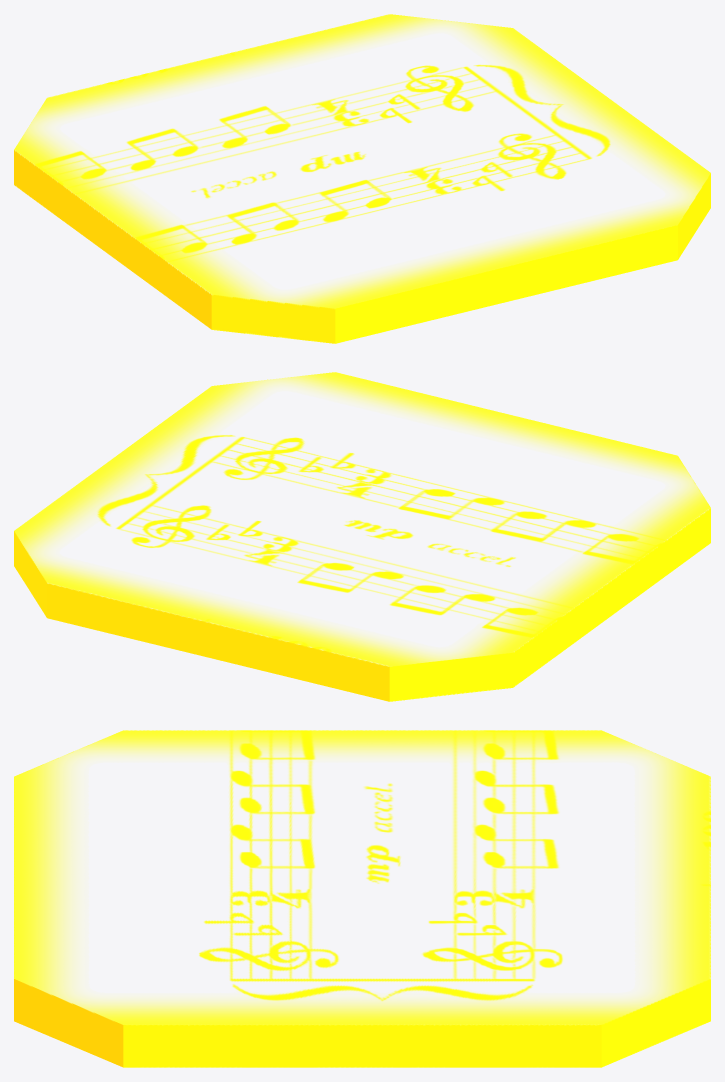
Rendered from platform_yellow.glb.
3 renders of one model, top to bottom at view 1: azimuth 30°, elevation 25°; view 2: azimuth 150°, elevation 25°; view 3: azimuth 270°, elevation 25°, orthographic. The views are drawn at different scales.
Parts seen in each view (by area): view 1: Plane.002; view 2: Plane.002; view 3: Plane.002.
Part boxes in pixels (left/top/right/bottom): Plane.002: left=14, top=14, right=710, bottom=343; Plane.002: left=14, top=372, right=710, bottom=701; Plane.002: left=14, top=730, right=710, bottom=1067.
Size of what is drawn, in the model's own units: 5 by 0.3369 by 5.
1 material, 1 textured.
